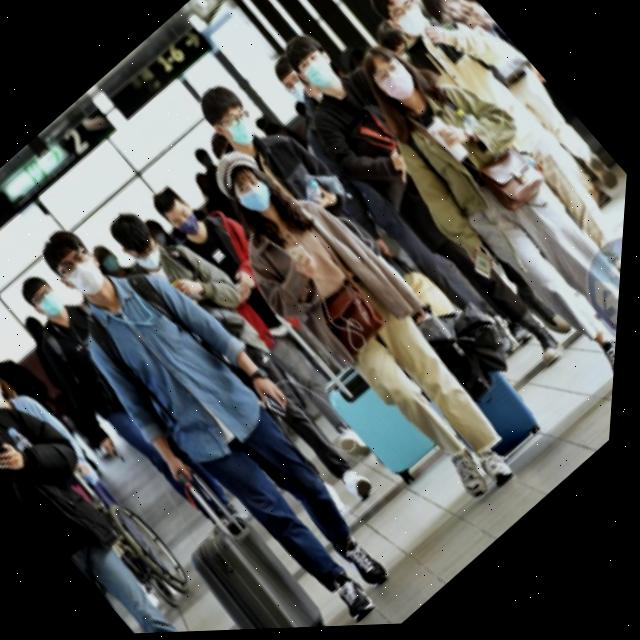Mask: (366, 51, 433, 117), (54, 243, 120, 307), (209, 99, 271, 161), (227, 165, 285, 223), (291, 47, 348, 104), (380, 0, 436, 50), (124, 230, 177, 282), (166, 198, 215, 247), (32, 284, 72, 323), (0, 374, 21, 419)
